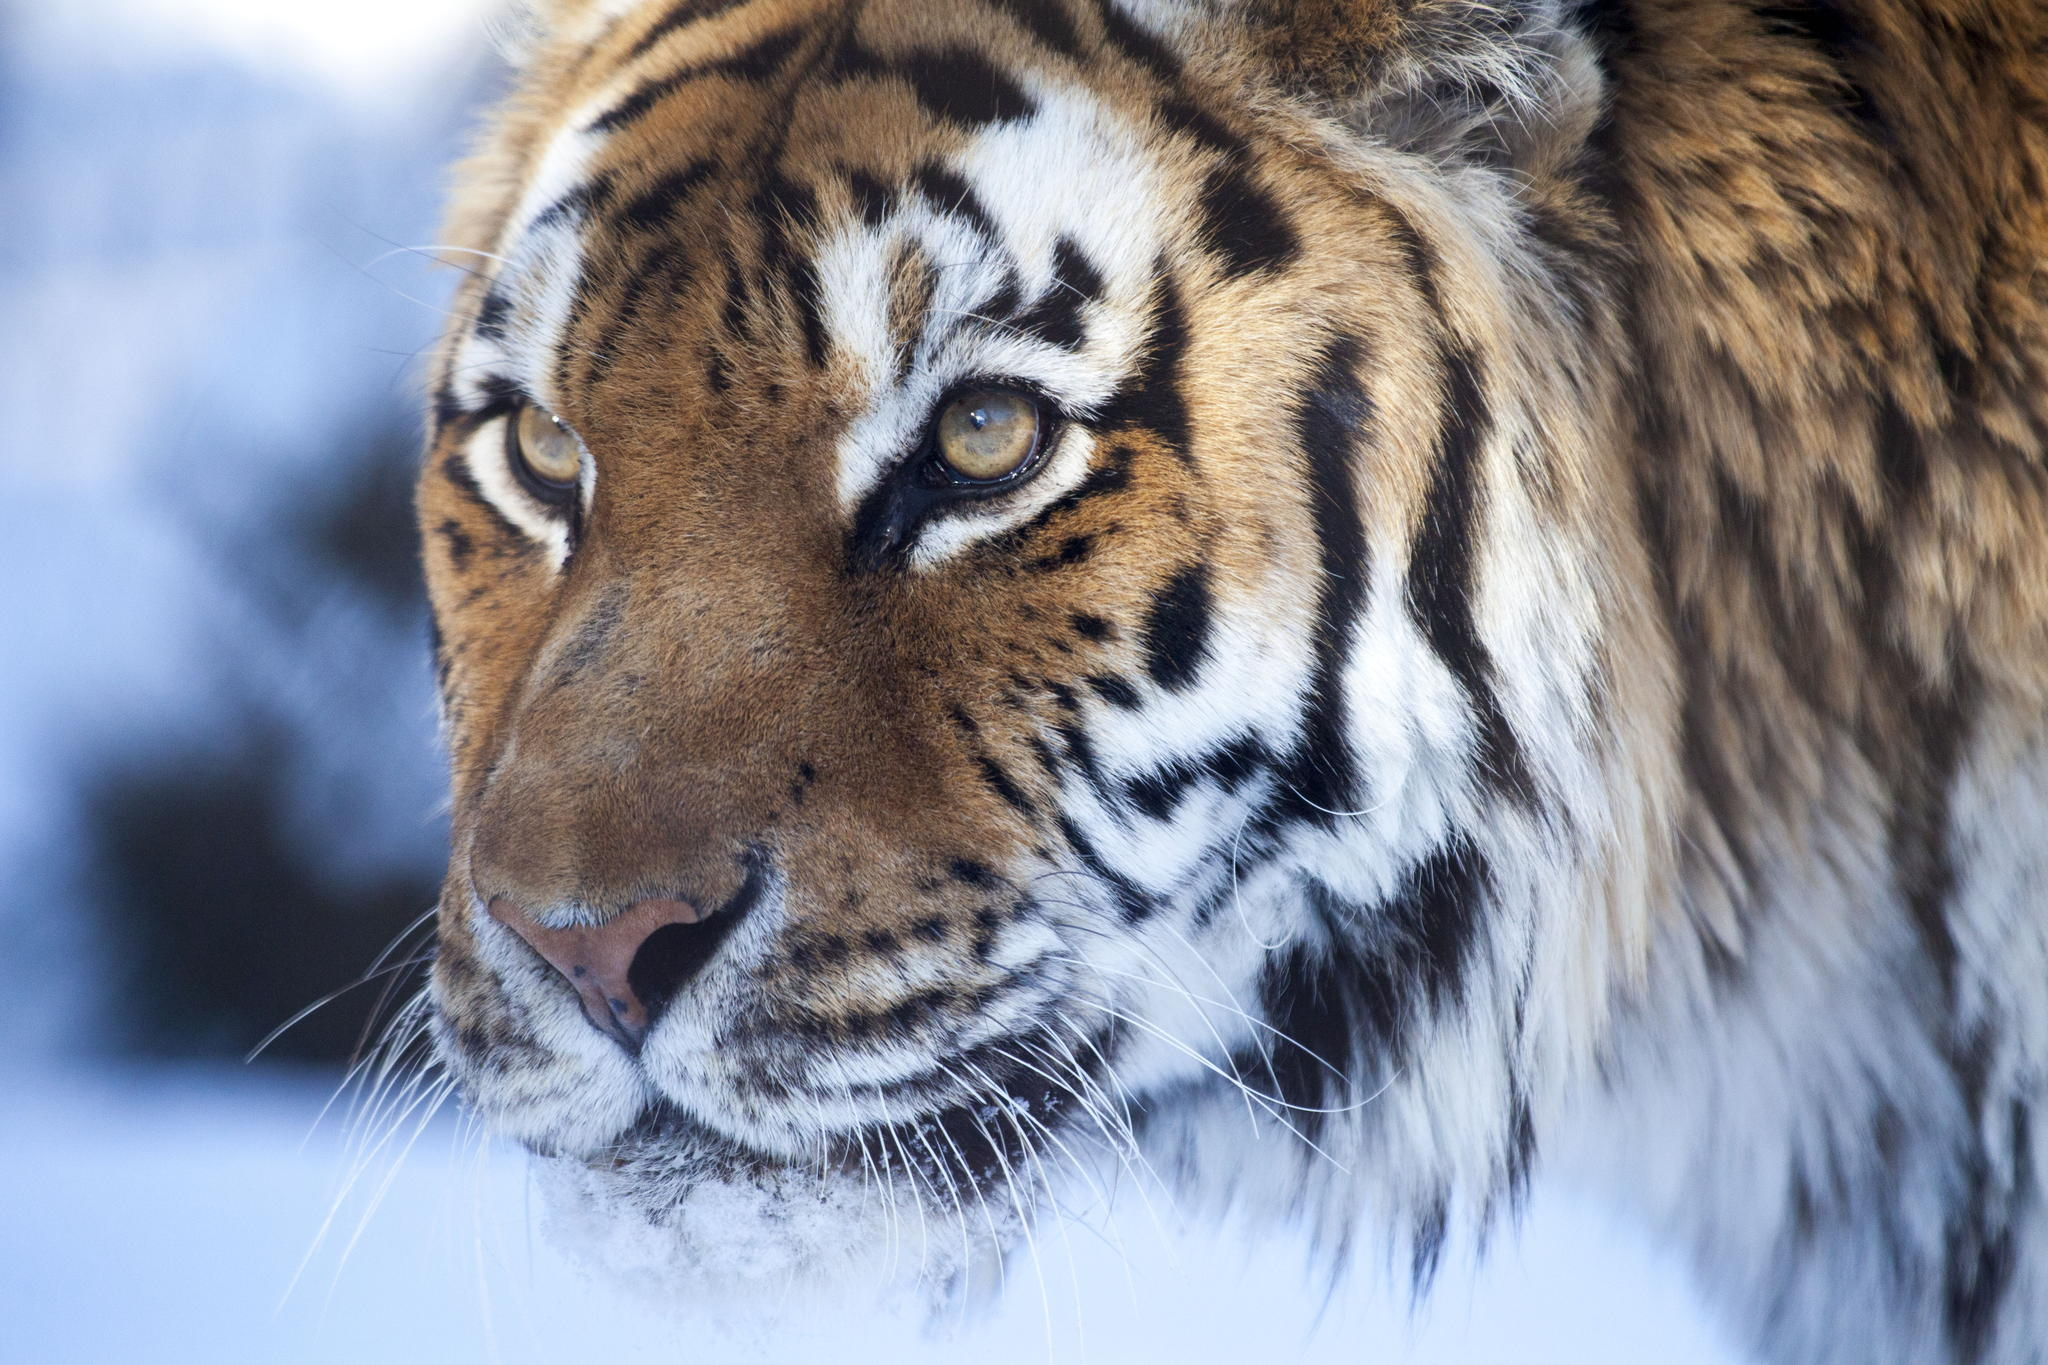tiger: (394, 46, 1958, 1296)
